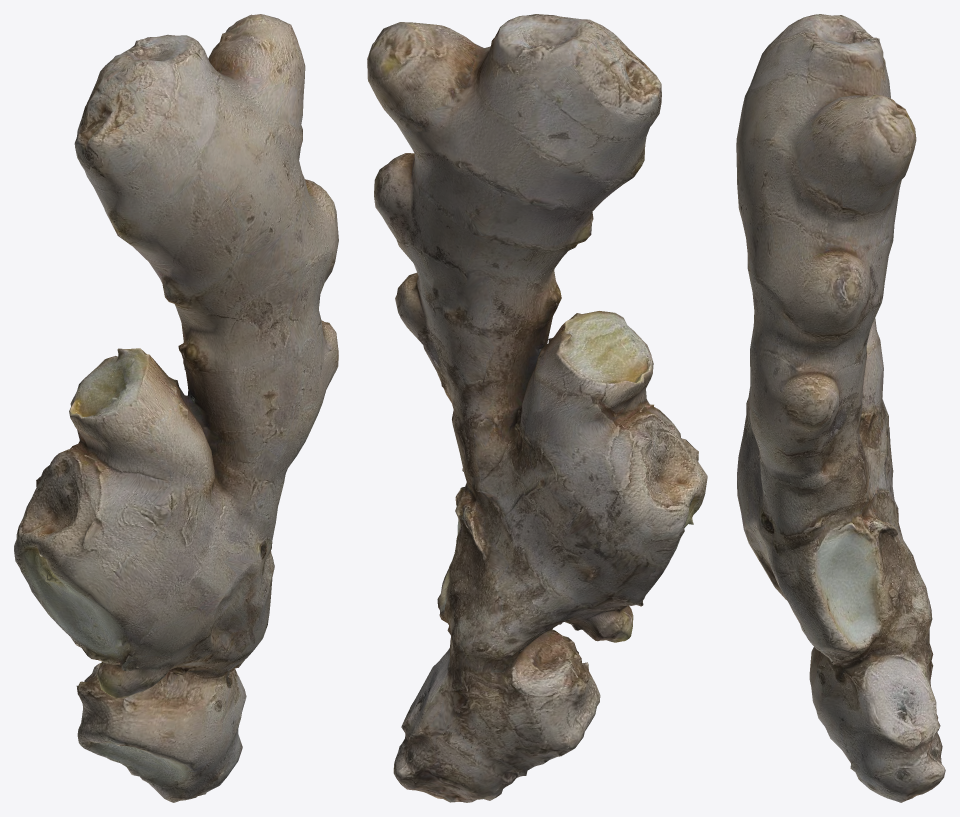
Rendered from food_ginger_01.glb.
The picture shows the model from 3 angles, left to right: view 1: azimuth 30°, elevation 25°; view 2: azimuth 150°, elevation 25°; view 3: azimuth 270°, elevation 25°; orthographic projection. The views are drawn at different scales.
Parts seen in each view (by area): view 1: food_ginger_01; view 2: food_ginger_01; view 3: food_ginger_01.
Boxes of the visible parts, <box> form: food_ginger_01: <box>14,14,338,802</box>; food_ginger_01: <box>367,14,707,802</box>; food_ginger_01: <box>736,14,945,802</box>.
Bounding box in the file's own units: 0.2399 × 0.5746 × 0.1474.
1 material, 1 textured.
